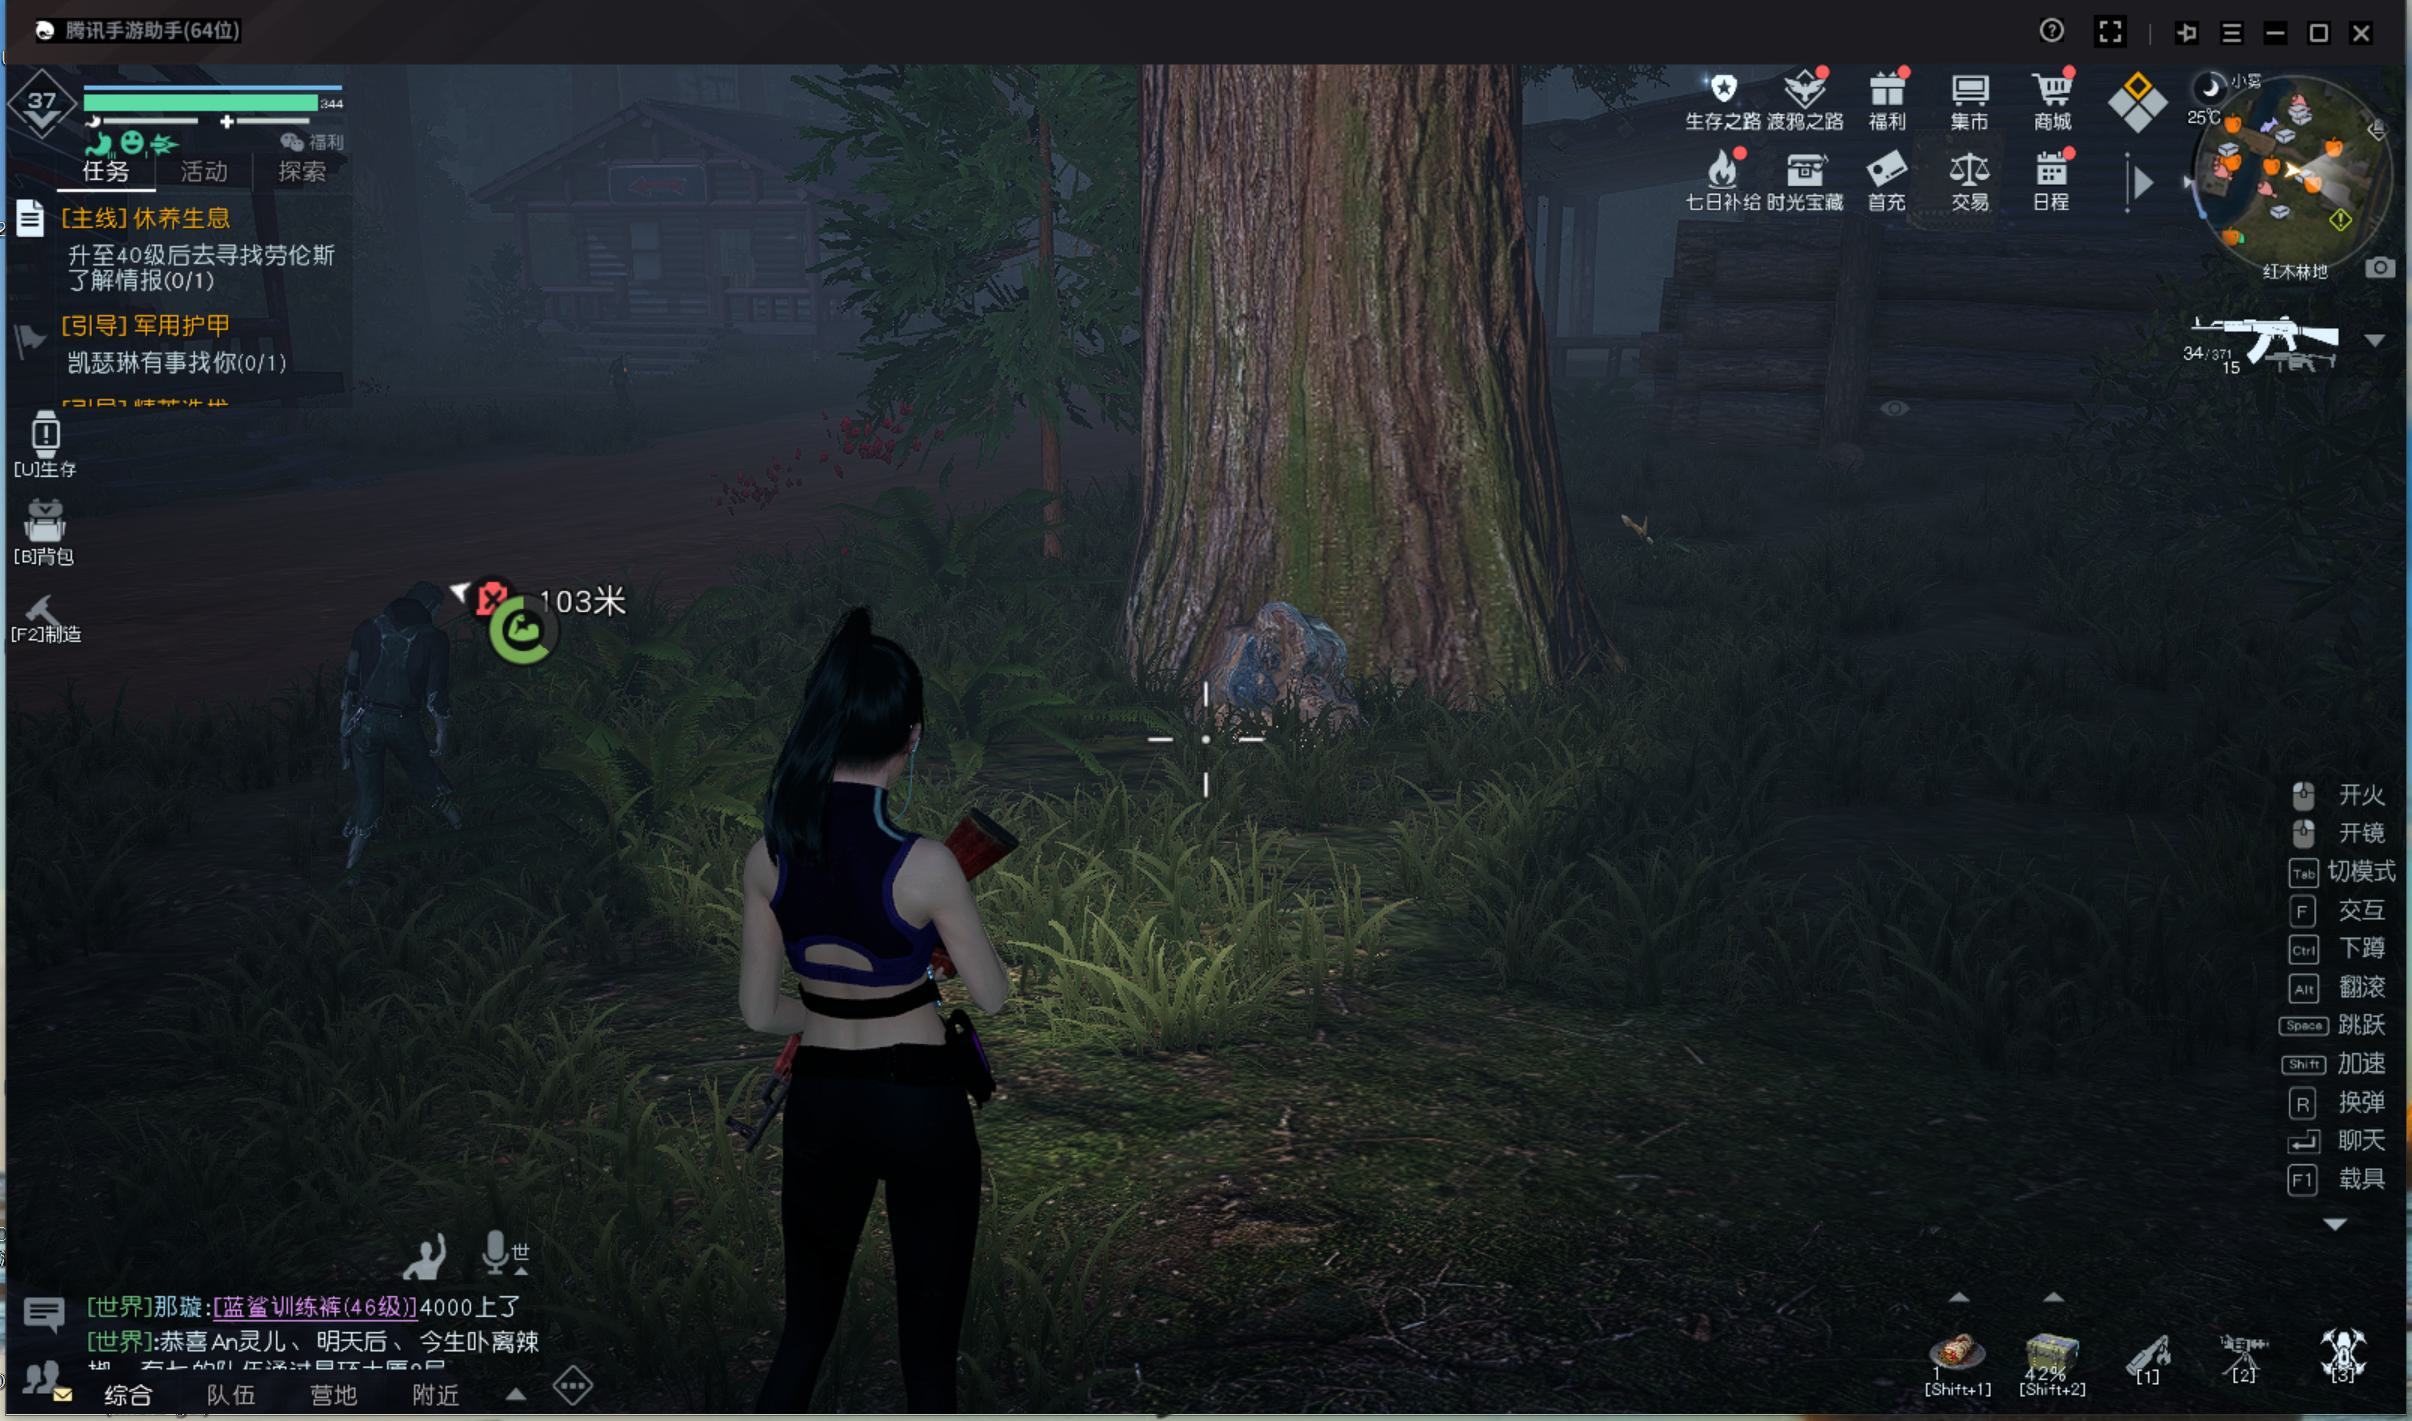stone: (1172, 606, 1367, 754)
